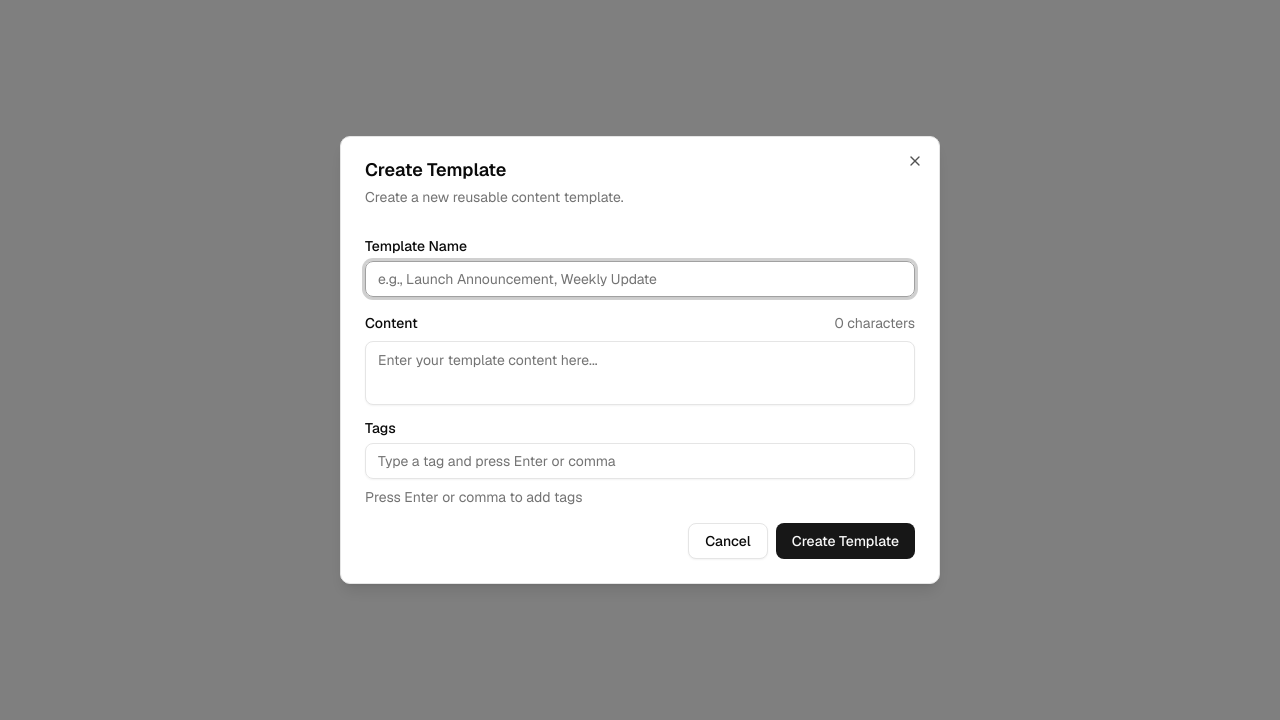
Test: TemplateFormModal - Tag Input › should add tag when Enter key is pressed
Type "newtag" into the field with placeholder "Type a tag and press Enter or comma" at (640, 461), box [365,443,915,479]
Then press Enter
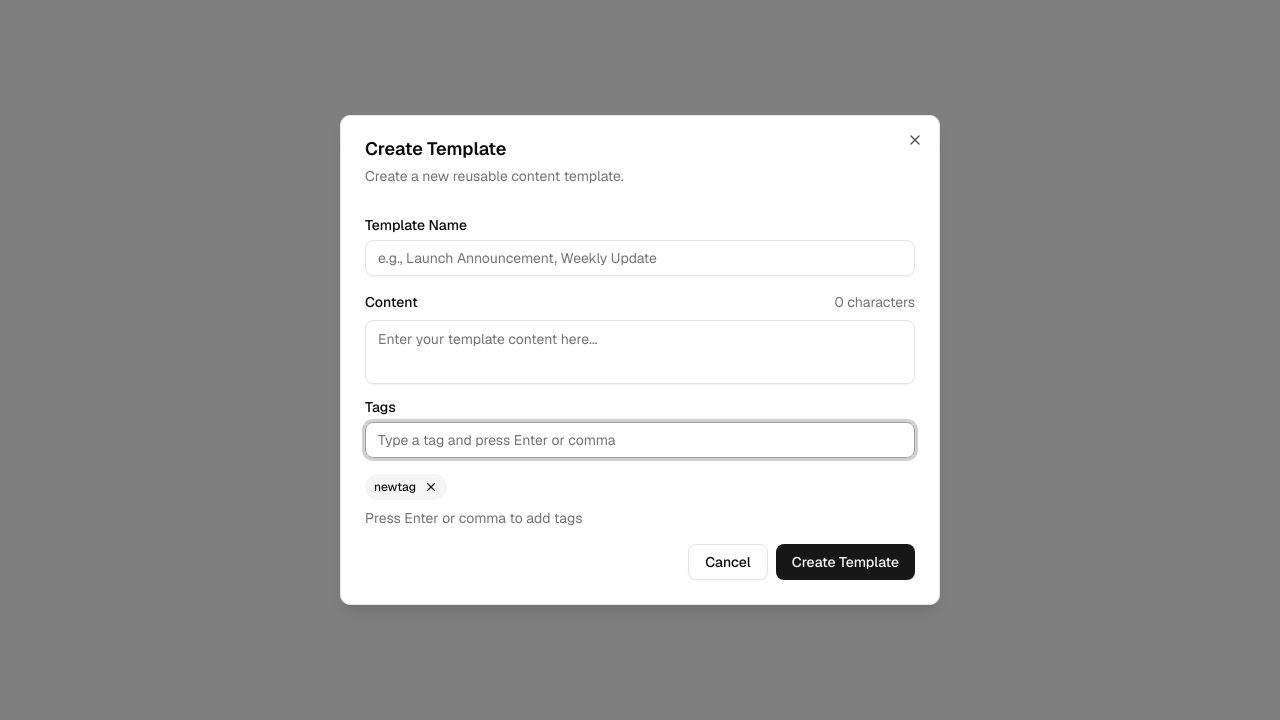
expect the field with placeholder "Type a tag and press Enter or comma" is empty: met, box [365,422,915,458]
expect the text "newtag" is shown: met, box [374,479,416,495]
